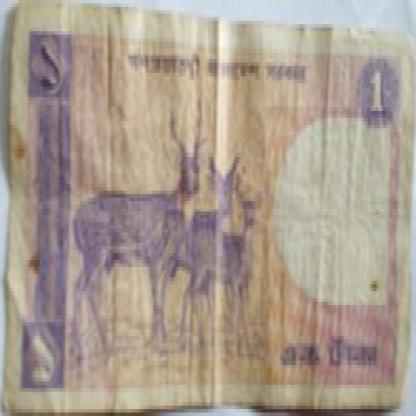One Taka: (280, 333, 385, 378), (30, 31, 70, 101), (25, 326, 63, 392), (364, 69, 390, 118)
